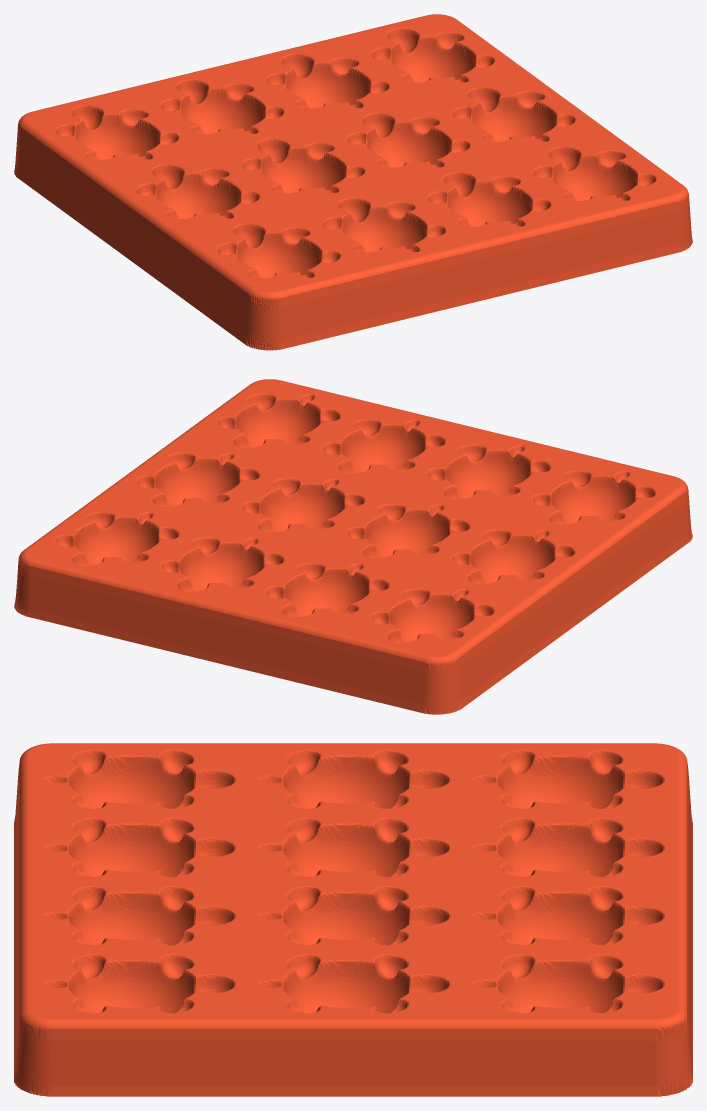
File: mold.glb
3 views of the same model, one above another, from view 1: azimuth 30°, elevation 25°; view 2: azimuth 150°, elevation 25°; view 3: azimuth 270°, elevation 25° (orthographic). The views are drawn at different scales.
Parts seen in each view (by area): view 1: geometry_0; view 2: geometry_0; view 3: geometry_0.
Boxes of the visible parts, bbox=[...] form: geometry_0: bbox=[14, 14, 692, 350]; geometry_0: bbox=[14, 379, 692, 714]; geometry_0: bbox=[14, 743, 692, 1096].
Size of the model in its own units: 0.1601 by 0.0185 by 0.1598.
